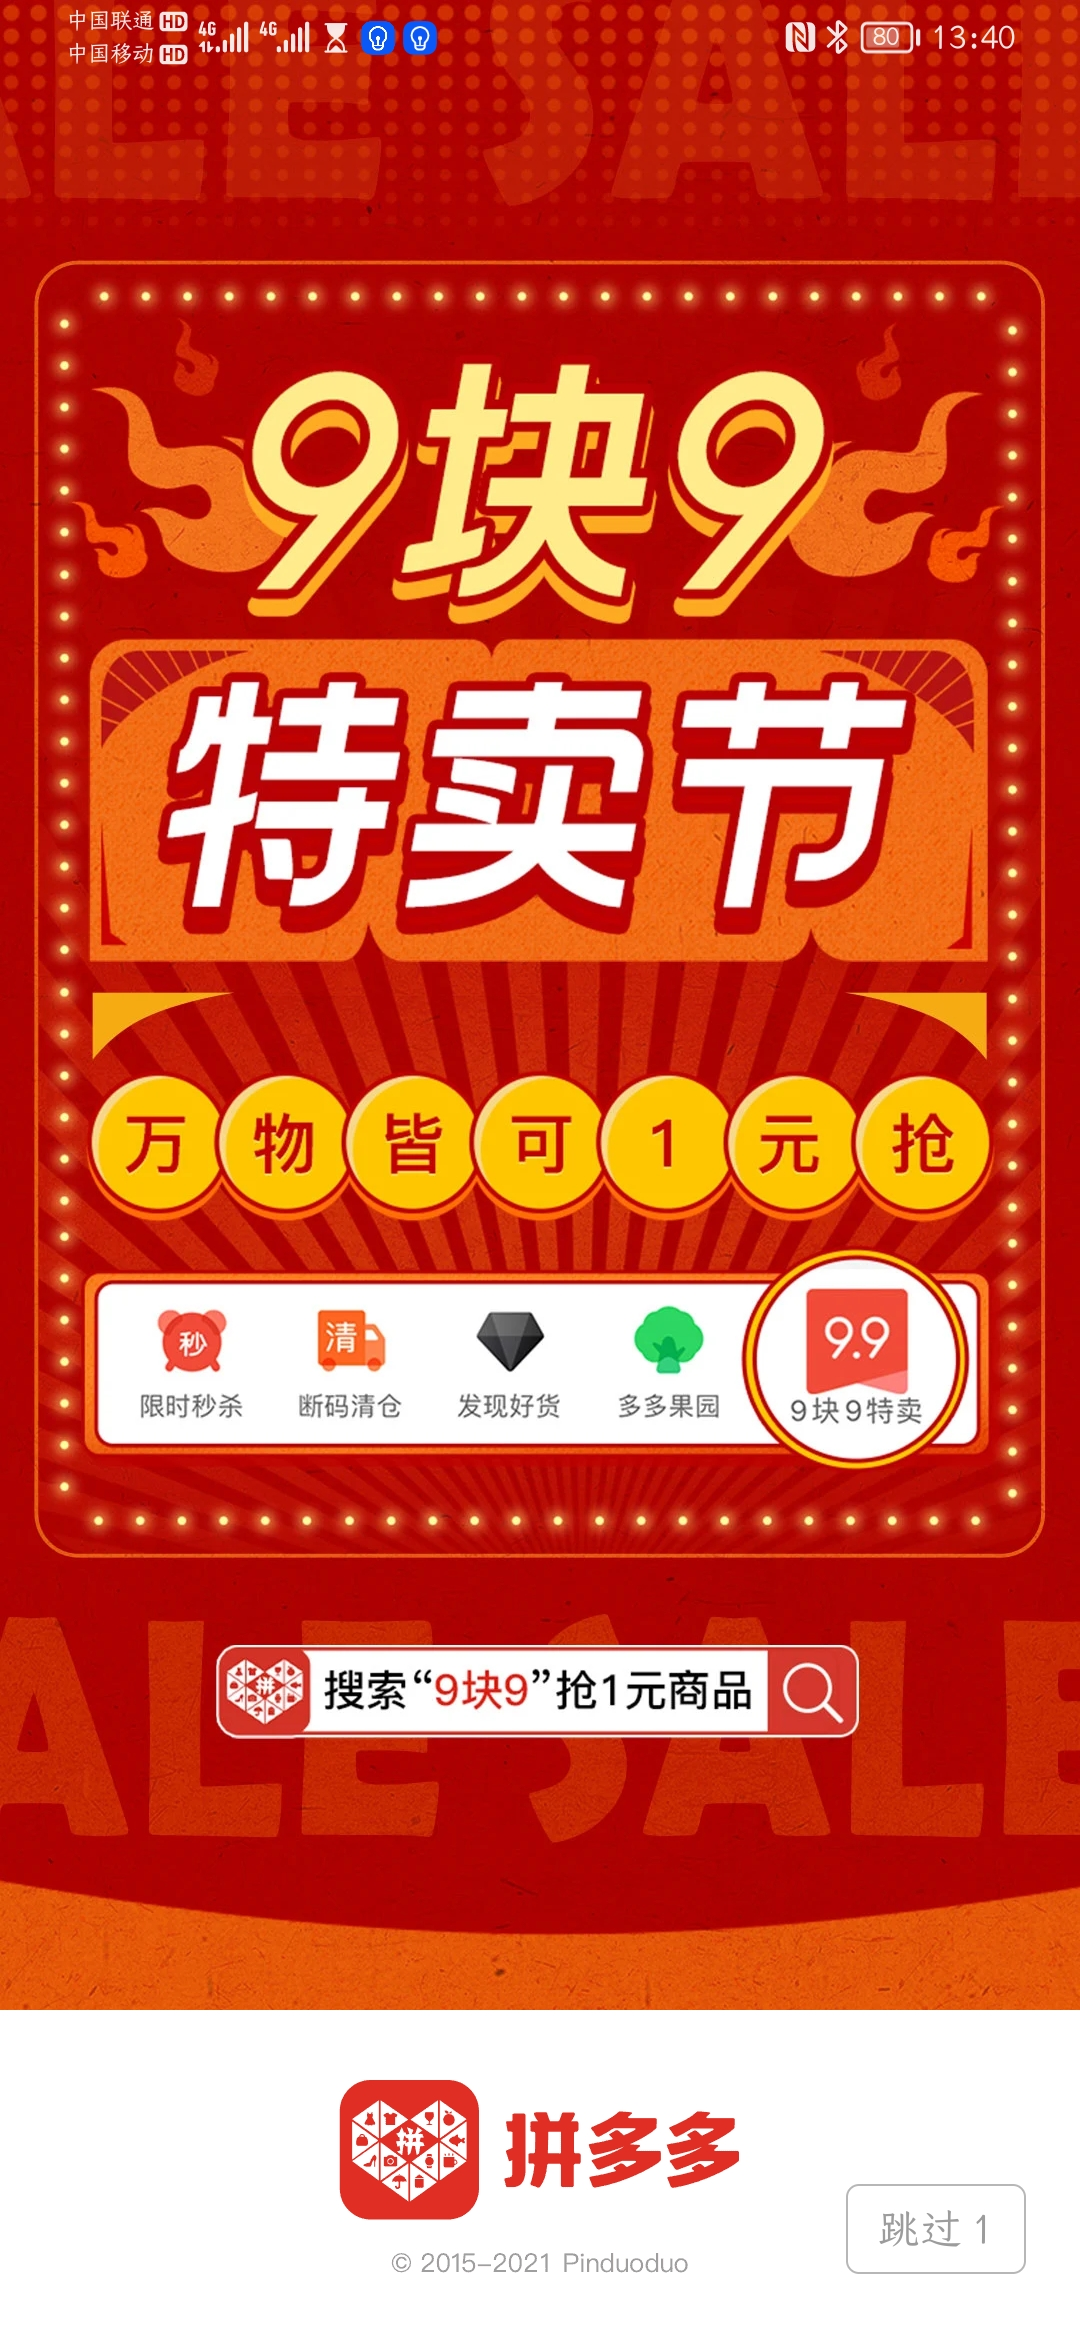skip: (861, 2197, 1023, 2268)
